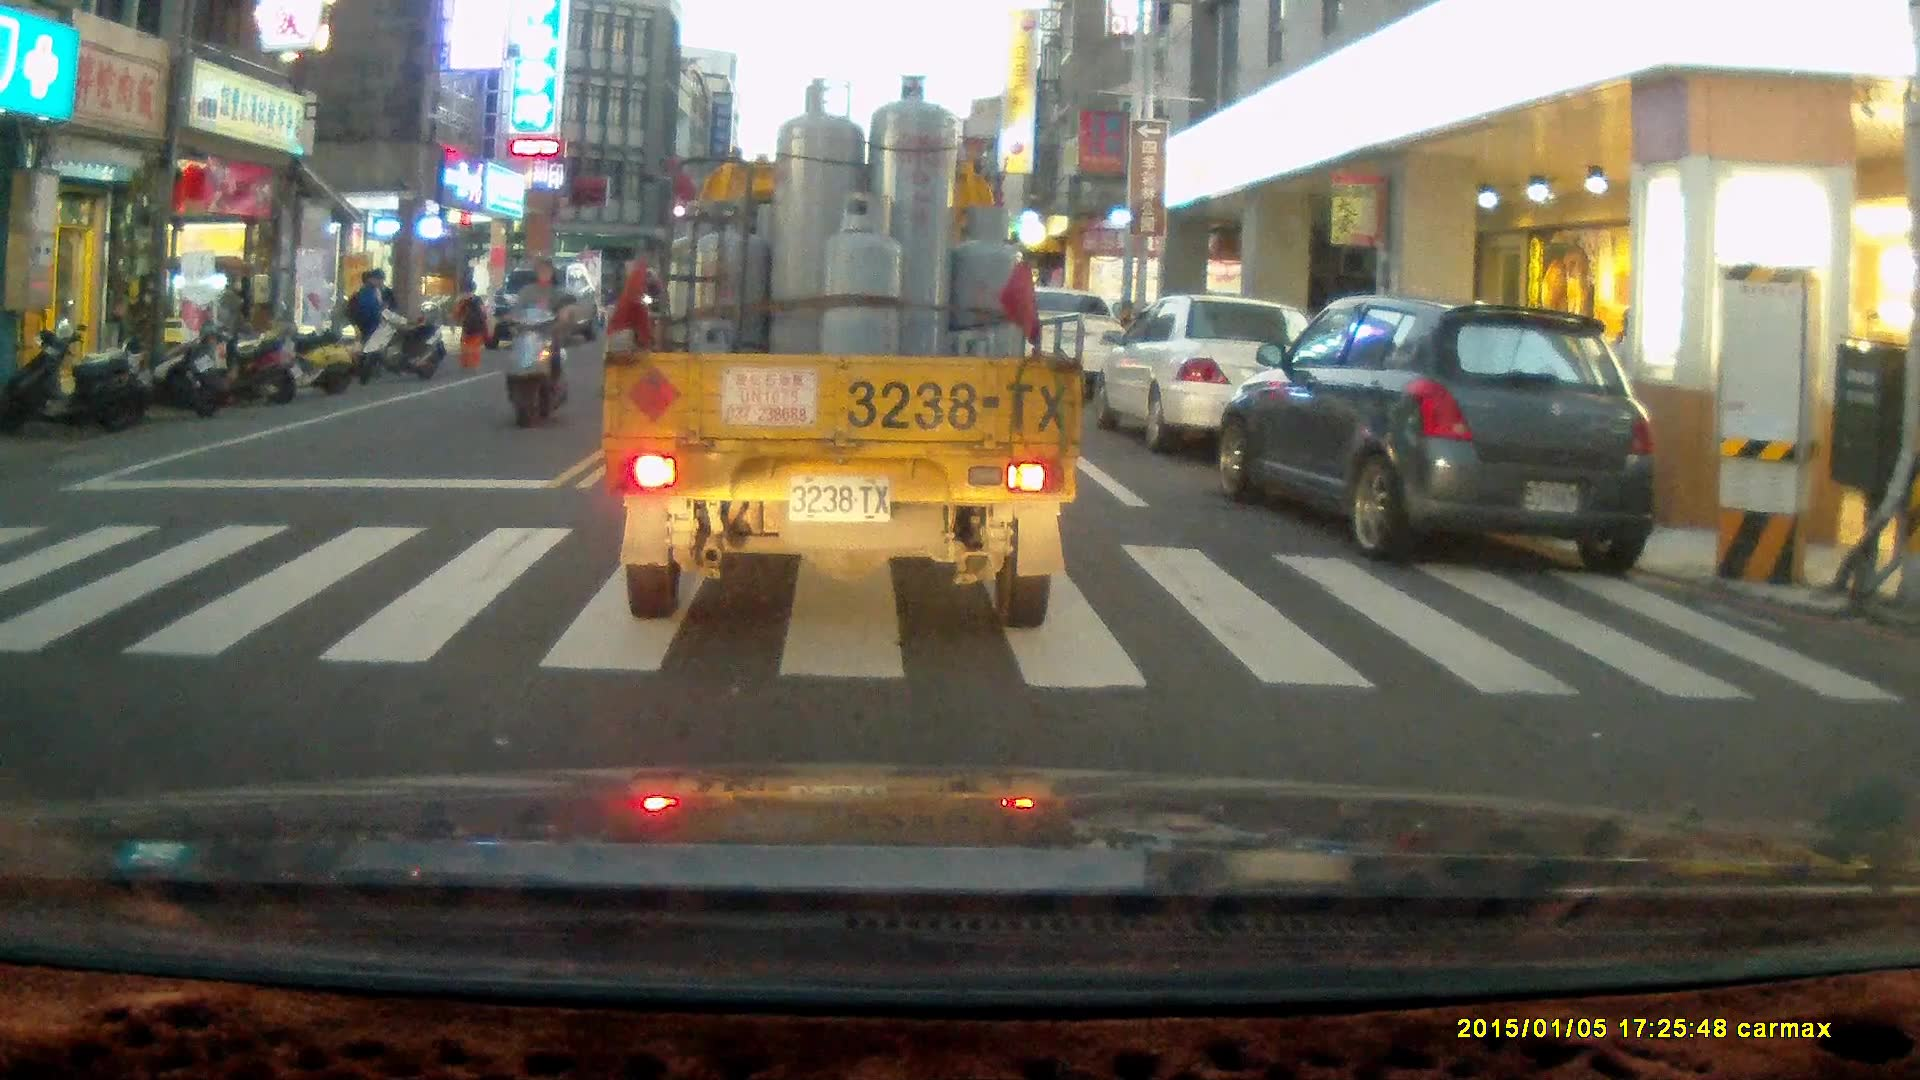pedestrian: (446, 277, 492, 373), (346, 269, 384, 378), (214, 267, 245, 368)
rider: (499, 256, 570, 429)
vehicle: (599, 73, 1086, 628), (1217, 294, 1663, 571), (1098, 303, 1318, 462), (986, 295, 1141, 423), (487, 267, 599, 356)
